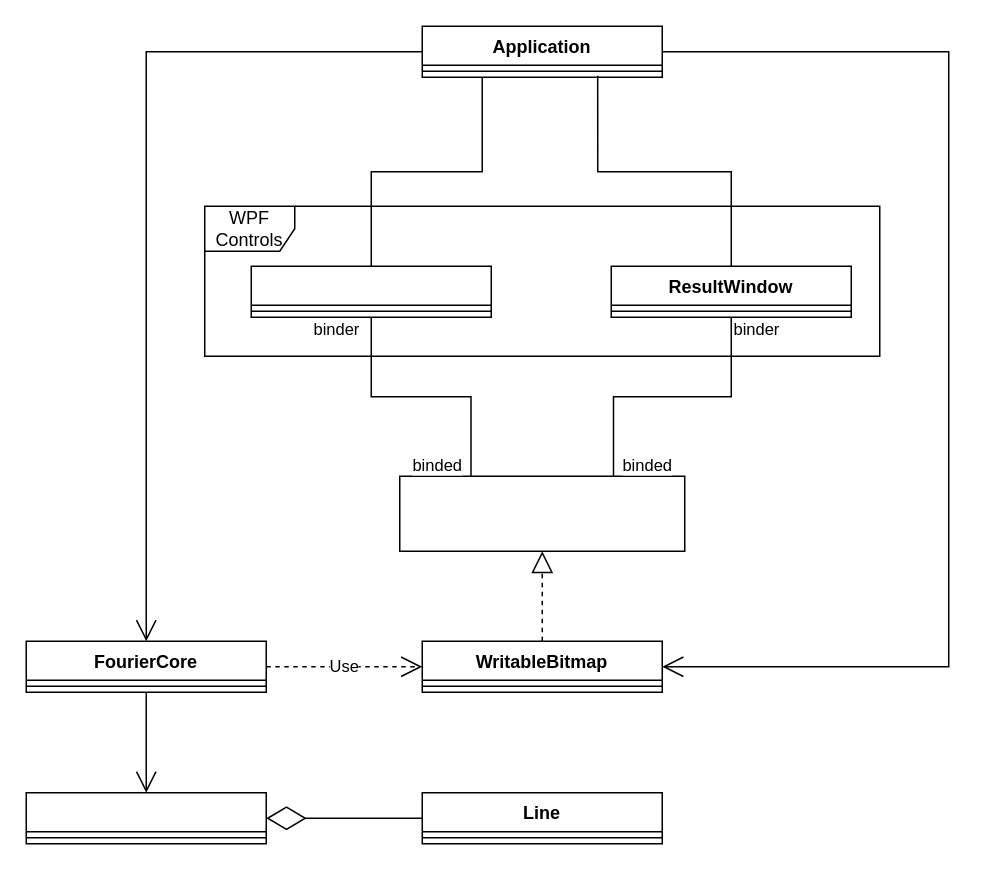
This 996x884 diagram has some shape labels left out. Here are the shapes that lost their labels. From the top down, the centre of each, then its label:
pixel 370 291: DrawWindow
pixel 541 513: <<Interface>> IImageBinding
pixel 145 817: Path
